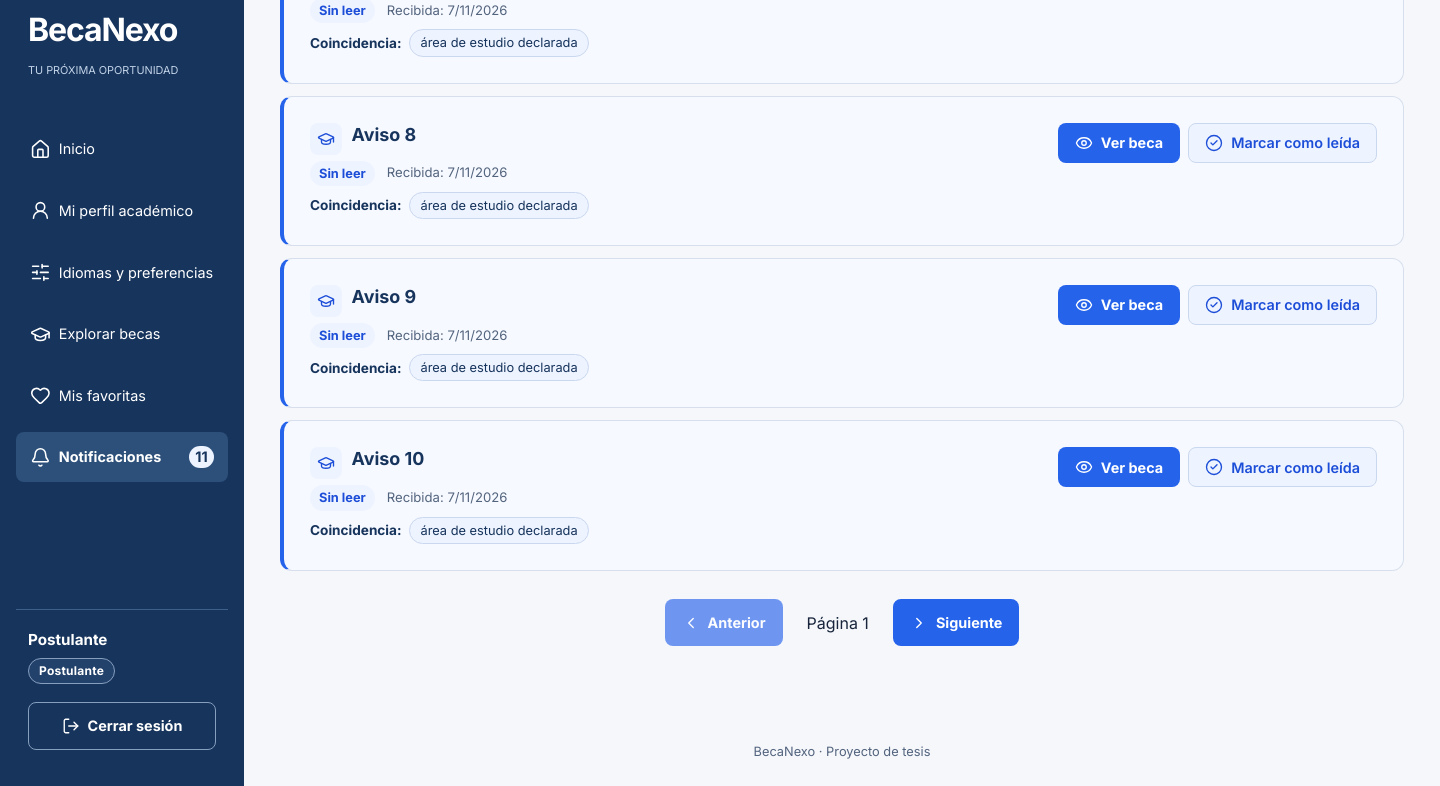
Test case: no crea enlace falso para convocatoria pausada y pagina resultados
The width and height of the screenshot is (1440, 786).
(page scrolled)
Expected: the button "Anterior" is disabled, [665,599,782,646]
What coordinates should you click on to do the following:
click the button "Siguiente"
I would click on:
 (956, 623)
Its box is [893,599,1019,646].
(page scrolled)
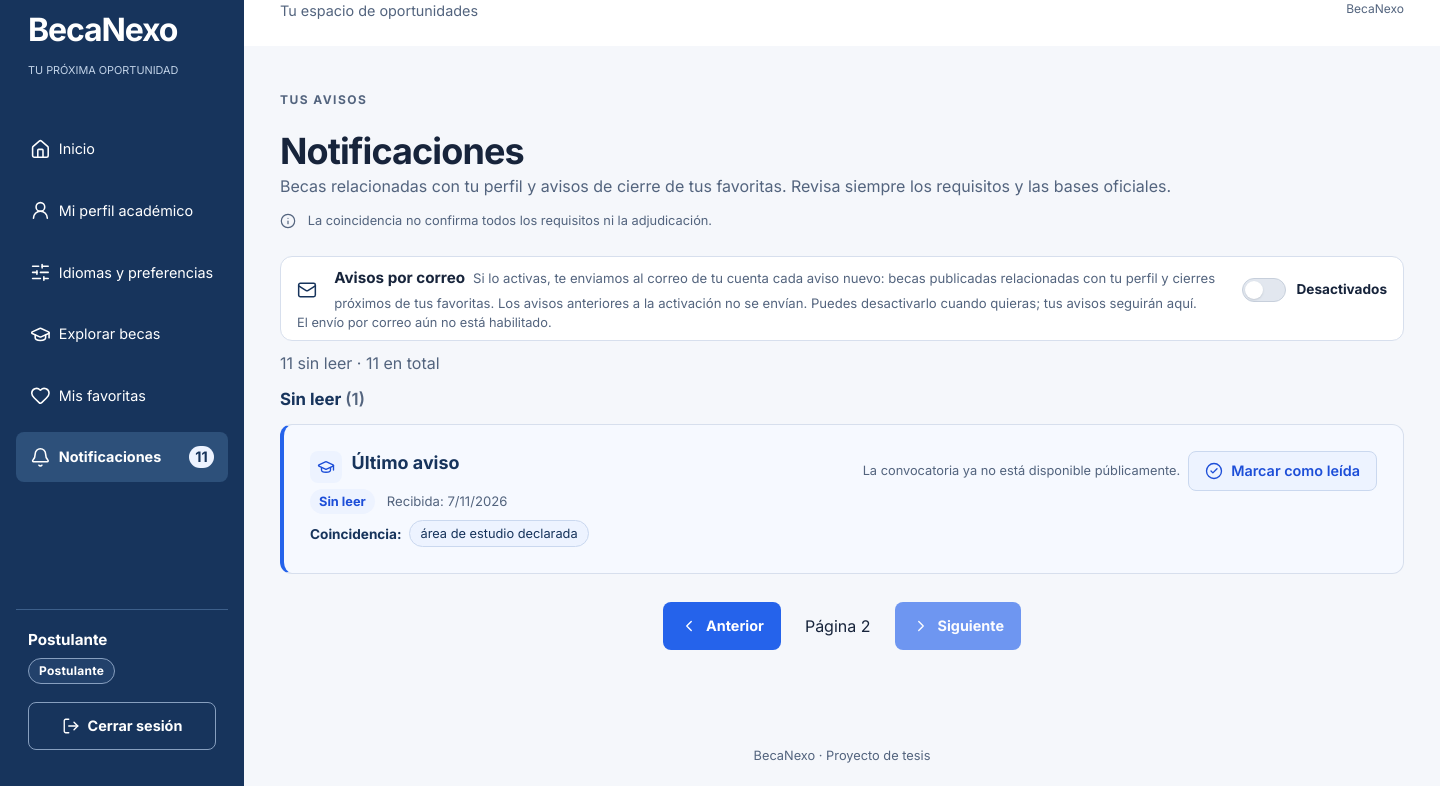
Result: the text "Último aviso" is shown at [352,452,460,473]
Result: the button "Siguiente" is disabled at [894,602,1021,650]
Result: the text "La convocatoria ya no está disponible públicamente." is shown at [863,461,1180,481]
